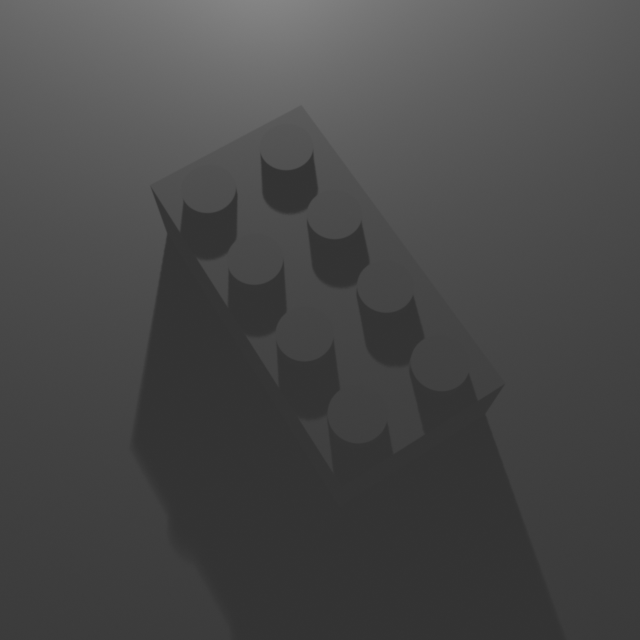lego_2x4: (147, 95, 509, 507)
